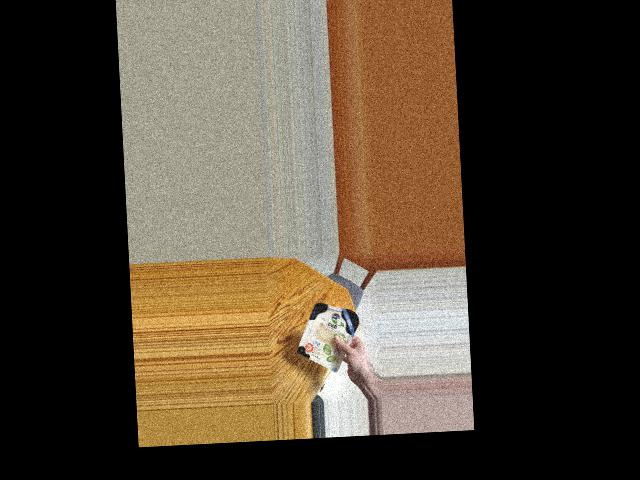cheese: (298, 300, 365, 366)
